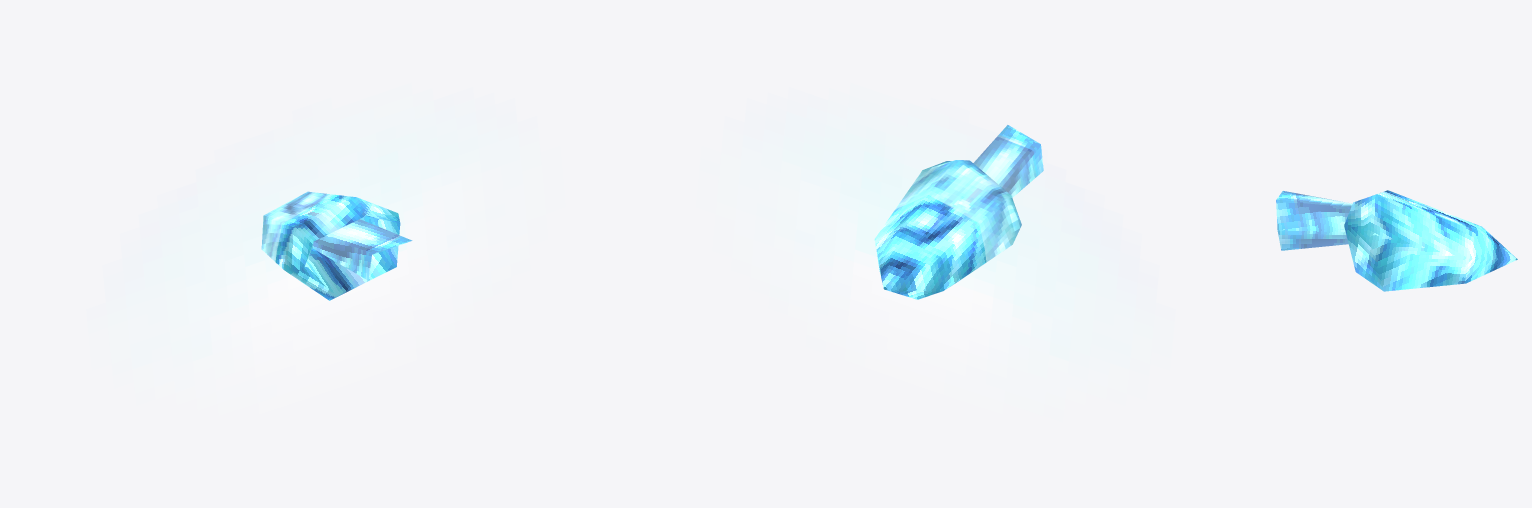
File: strooppod_3db.gltf
3 views of the same model, side by side, from view 1: azimuth 30°, elevation 25°; view 2: azimuth 150°, elevation 25°; view 3: azimuth 270°, elevation 25° (orthographic). The views are drawn at different scales.
Visible parts, largest first — view 1: strooppod.3db; view 2: strooppod.3db; view 3: strooppod.3db.
Part boxes in pixels (box(x1,y1,x2,y2)): strooppod.3db: box(163, 132, 487, 378); strooppod.3db: box(774, 125, 1098, 378); strooppod.3db: box(1276, 190, 1517, 291).
Size of the model in its own units: 11.8 by 7.76 by 4.43.
3 materials, 3 textured.
